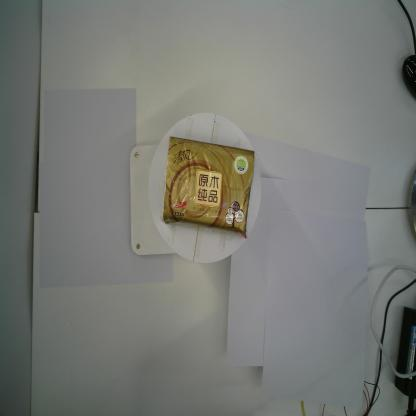Tissue: (161, 136, 255, 238)
